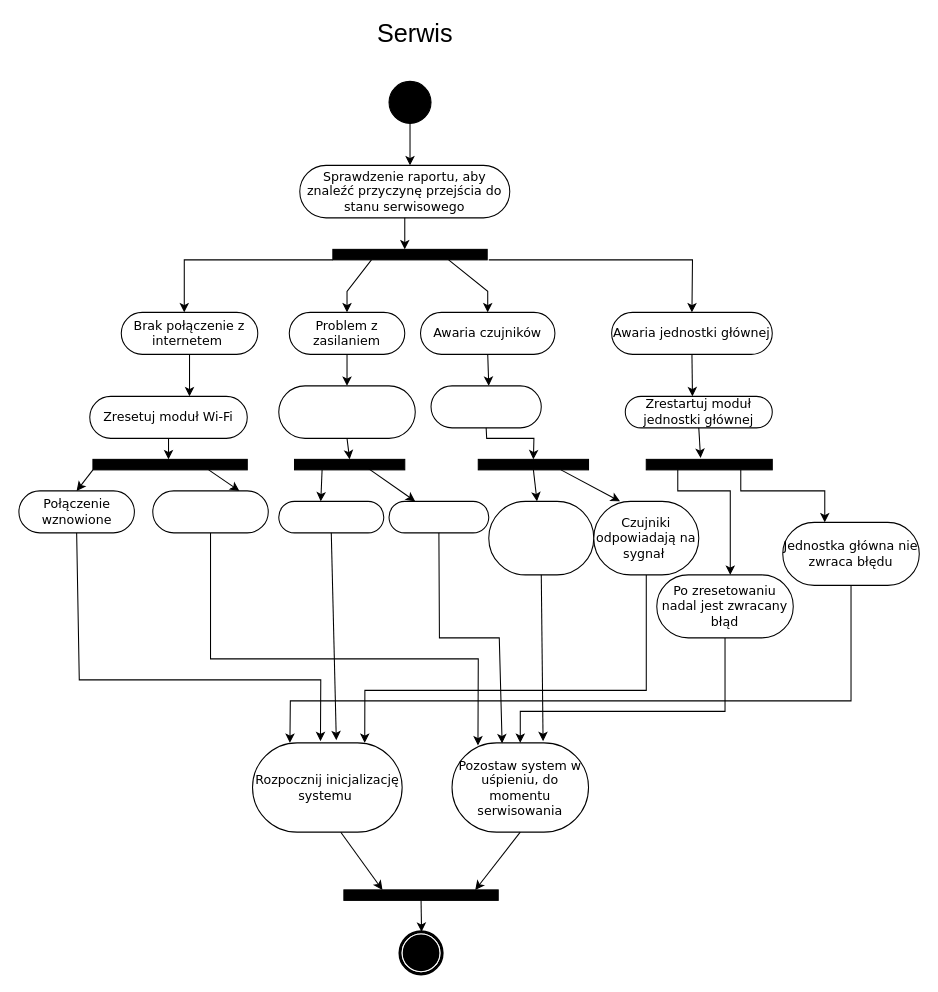
The diagram is 938 pixels wide and 992 high, and some of its shapes have lost their labels. Each missing label, with the centre of its shape:
"Brak informacji zwrotnej z czujników" goes at point (541, 537).
"Brak połączenia" goes at point (210, 511).
"Brak zasilania" goes at point (438, 516).
"Odzyskanie zasilania" goes at point (331, 516).
"Zresetuj czujniki" goes at point (485, 406).
"Zresetuj układ zarządzania zasilaniem" goes at point (346, 411).
